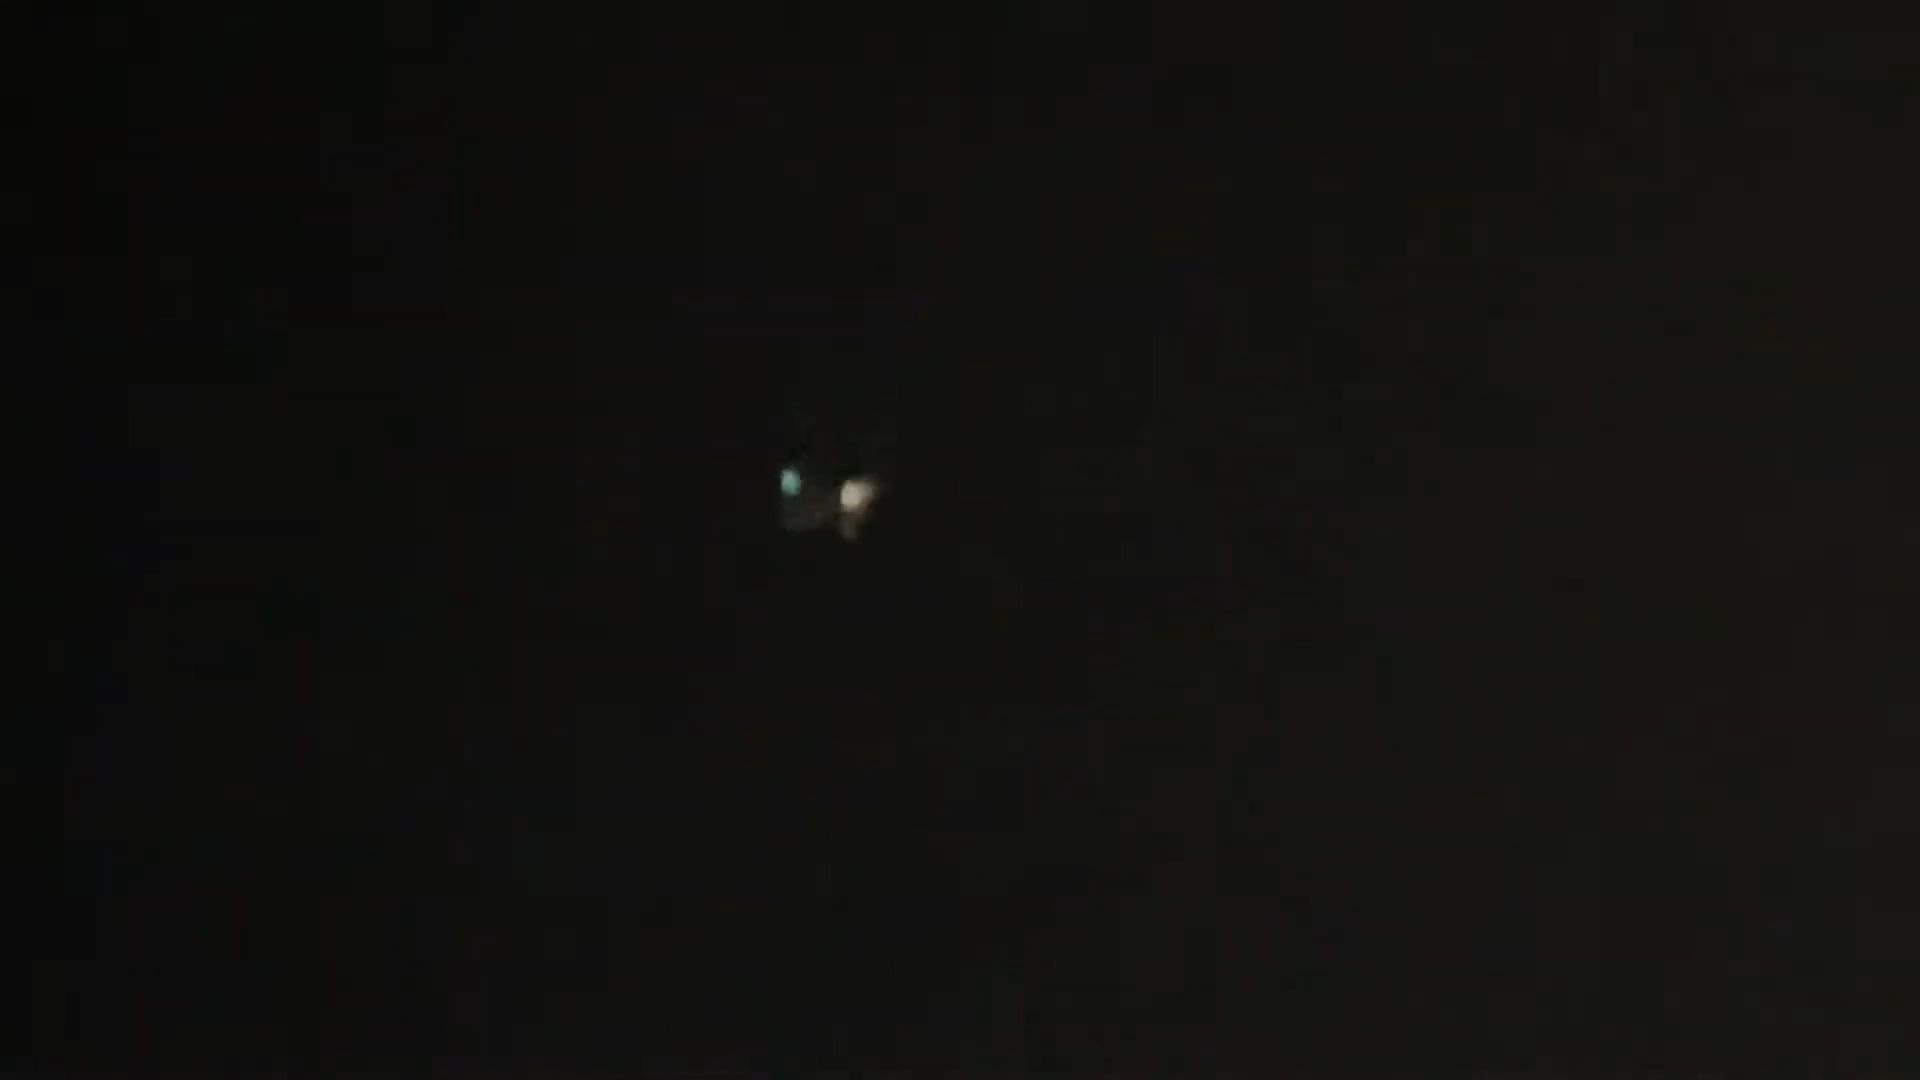Plane: (719, 433, 909, 566)
